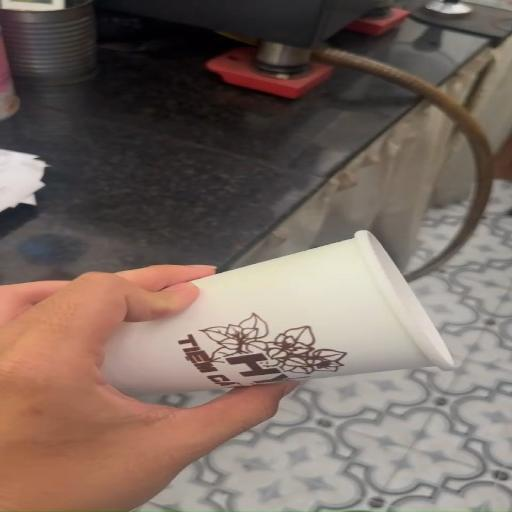Ly_giay: (102, 231, 451, 396)
